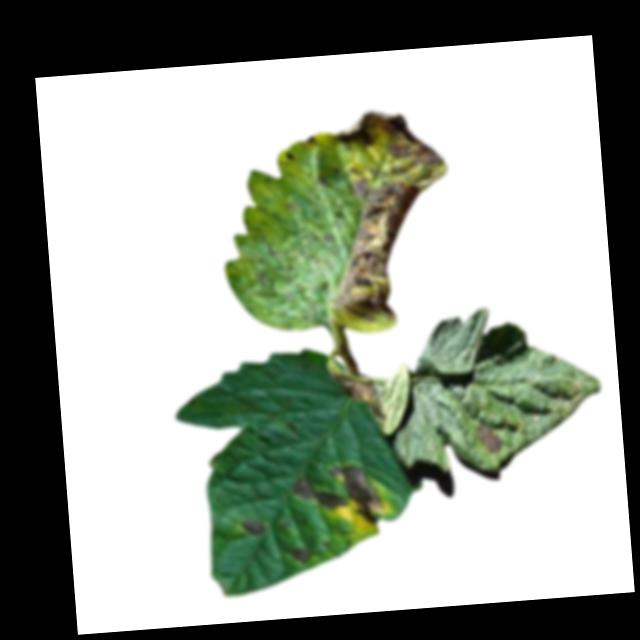Early_blight: (318, 175, 445, 336), (336, 103, 445, 176), (330, 460, 387, 528), (329, 372, 391, 421), (286, 475, 348, 514), (478, 423, 501, 457), (284, 546, 313, 568), (237, 518, 266, 539), (282, 149, 295, 163)
